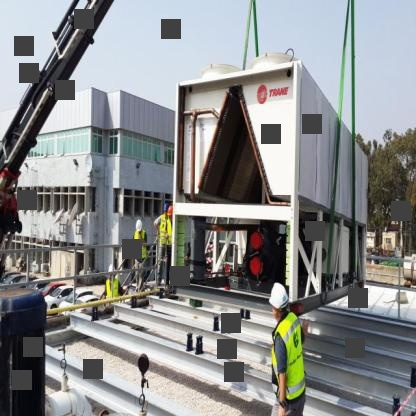blue: (162, 201, 168, 210)
vest: (266, 310, 307, 399), (157, 212, 173, 247), (132, 230, 148, 262), (103, 273, 119, 303)
white: (266, 276, 291, 315), (133, 216, 144, 234), (107, 263, 114, 271)
